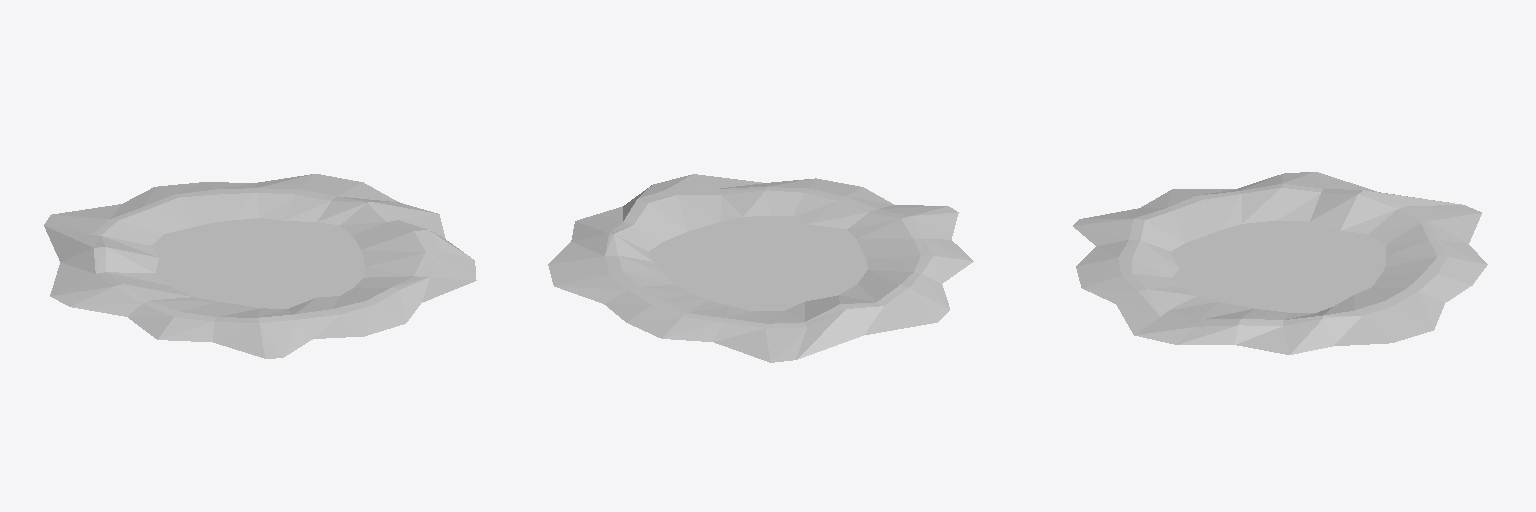
File: Crater.obj
The picture shows the model from 3 angles: view 1: azimuth 30°, elevation 25°; view 2: azimuth 150°, elevation 25°; view 3: azimuth 270°, elevation 25°; orthographic projection.
Parts seen in each view (by area): view 1: Crater01_Mesh.006; view 2: Crater01_Mesh.006; view 3: Crater01_Mesh.006.
Boxes of the visible parts, x1=… form: Crater01_Mesh.006: x1=44, y1=174, x2=476, y2=358; Crater01_Mesh.006: x1=548, y1=174, x2=973, y2=362; Crater01_Mesh.006: x1=1073, y1=172, x2=1487, y2=354.
Size of the model in its own units: 6.87 by 0.26 by 6.56.